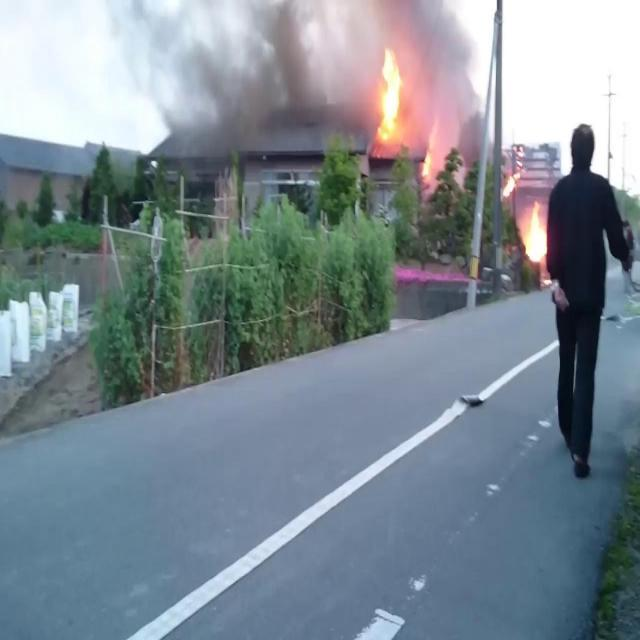Fire: (376, 44, 402, 142), (522, 199, 549, 262), (420, 128, 440, 176), (501, 168, 521, 198)
Smoke: (120, 3, 374, 124), (399, 7, 484, 148)
